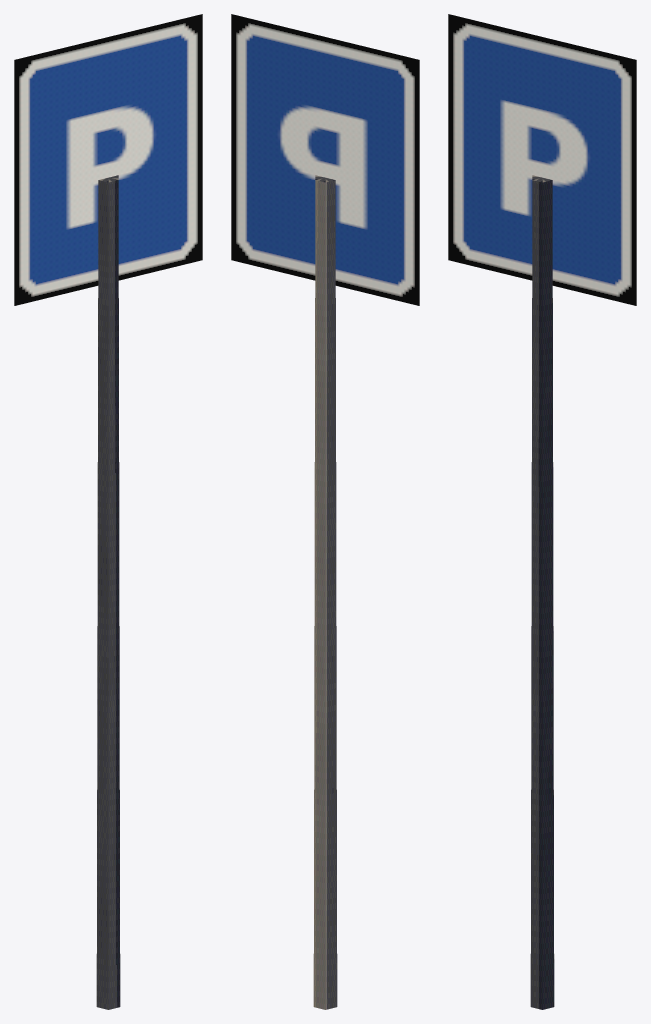
Rendered from lot_sign.glb.
3 renders of one model, left to right at view 1: azimuth 30°, elevation 25°; view 2: azimuth 150°, elevation 25°; view 3: azimuth 330°, elevation 25°, orthographic.
Visible parts, largest first — view 1: lot_sign; view 2: lot_sign; view 3: lot_sign.
Part boxes in pixels (x1,y1,x2,y2): lot_sign: (14, 14, 202, 1009); lot_sign: (231, 14, 419, 1009); lot_sign: (448, 14, 636, 1009).
Size of the model in its own units: 0.56 by 2.75 by 0.0606.
2 materials, 2 textured.
